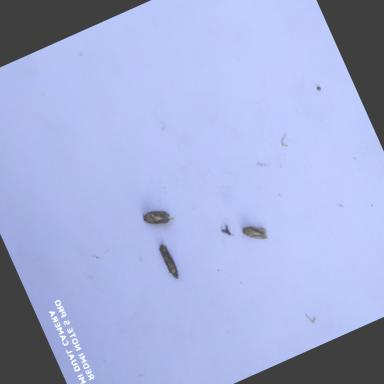pbw: (237, 214, 274, 250), (156, 239, 183, 281), (139, 202, 174, 234)
